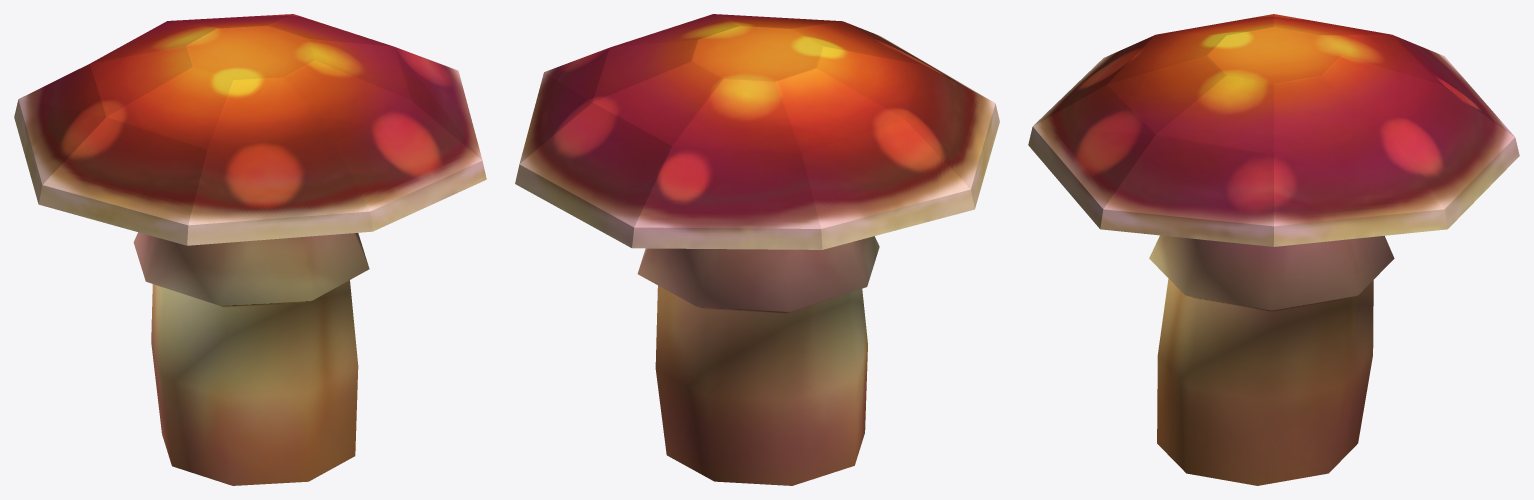
3 views of the same model, side by side, from view 1: azimuth 30°, elevation 25°; view 2: azimuth 150°, elevation 25°; view 3: azimuth 270°, elevation 25° (orthographic). The views are drawn at different scales.
Visible parts, largest first — view 1: Hongo005; view 2: Hongo005; view 3: Hongo005.
Boxes of the visible parts, box(x1,y1,x2,y2) form: Hongo005: box(14, 14, 486, 485); Hongo005: box(515, 14, 999, 485); Hongo005: box(1028, 14, 1519, 485).
Size of the model in its own units: 38.86 by 33.85 by 38.86.
